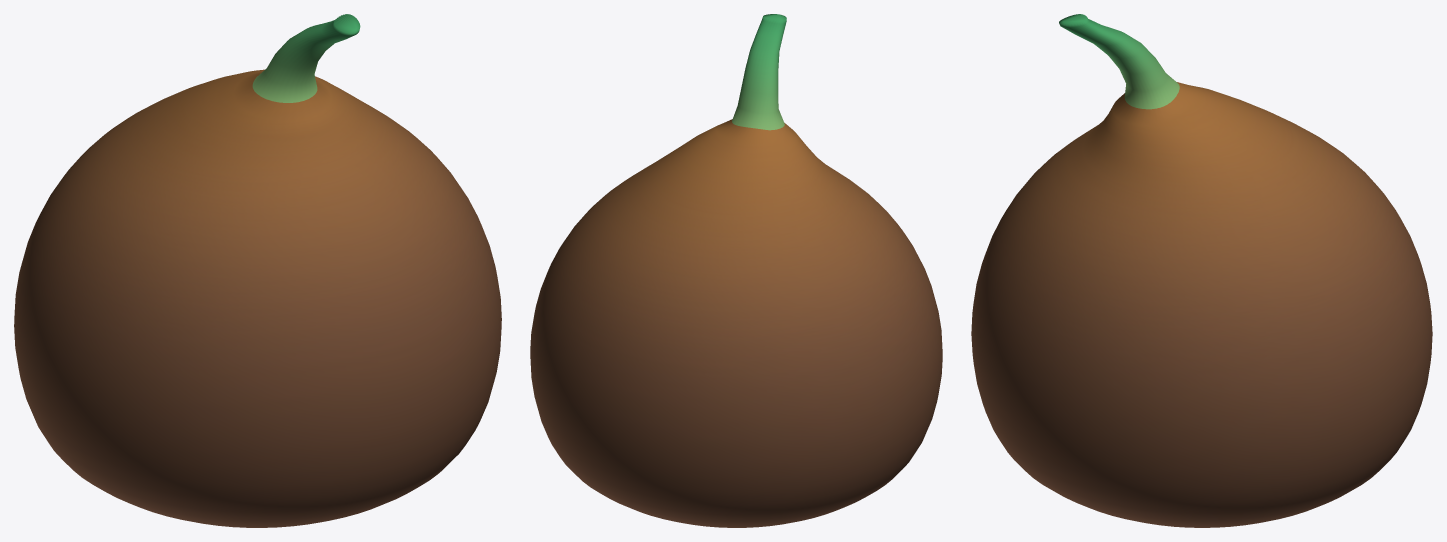
Rendered from seed.fbx.
3 views of the same model, side by side, from view 1: azimuth 30°, elevation 25°; view 2: azimuth 150°, elevation 25°; view 3: azimuth 270°, elevation 25° (orthographic). The views are drawn at different scales.
Visible parts, largest first — view 1: Seed; view 2: Seed; view 3: Seed.
Part boxes in pixels (box(x1,y1,x2,y2)): Seed: box(14, 14, 501, 527); Seed: box(530, 14, 942, 527); Seed: box(971, 14, 1432, 527).
Bounding box in the file's own units: 132 × 147 × 132.
